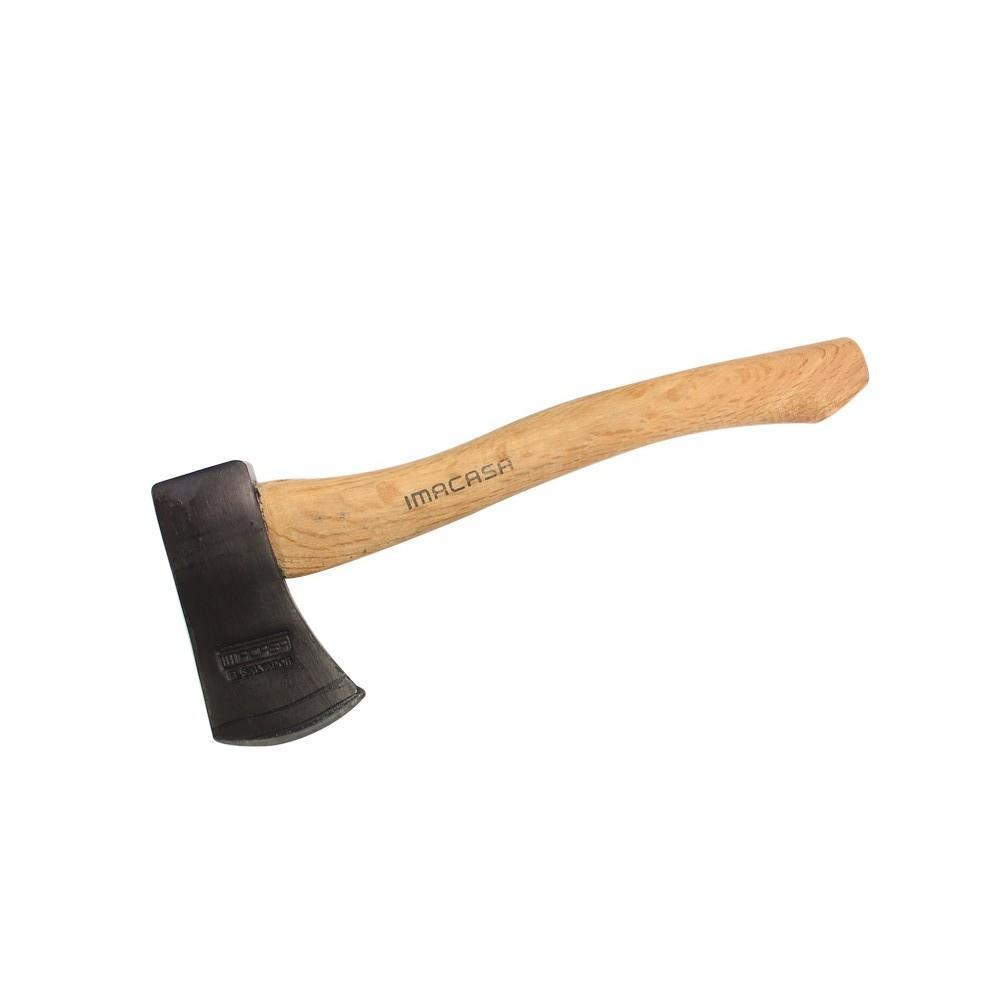machado: (153, 338, 868, 744)
